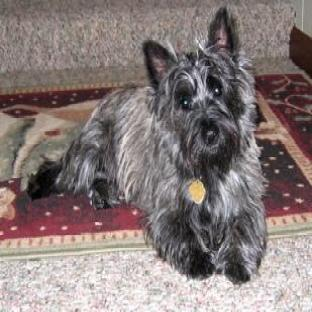Animal: (26, 8, 266, 282)
